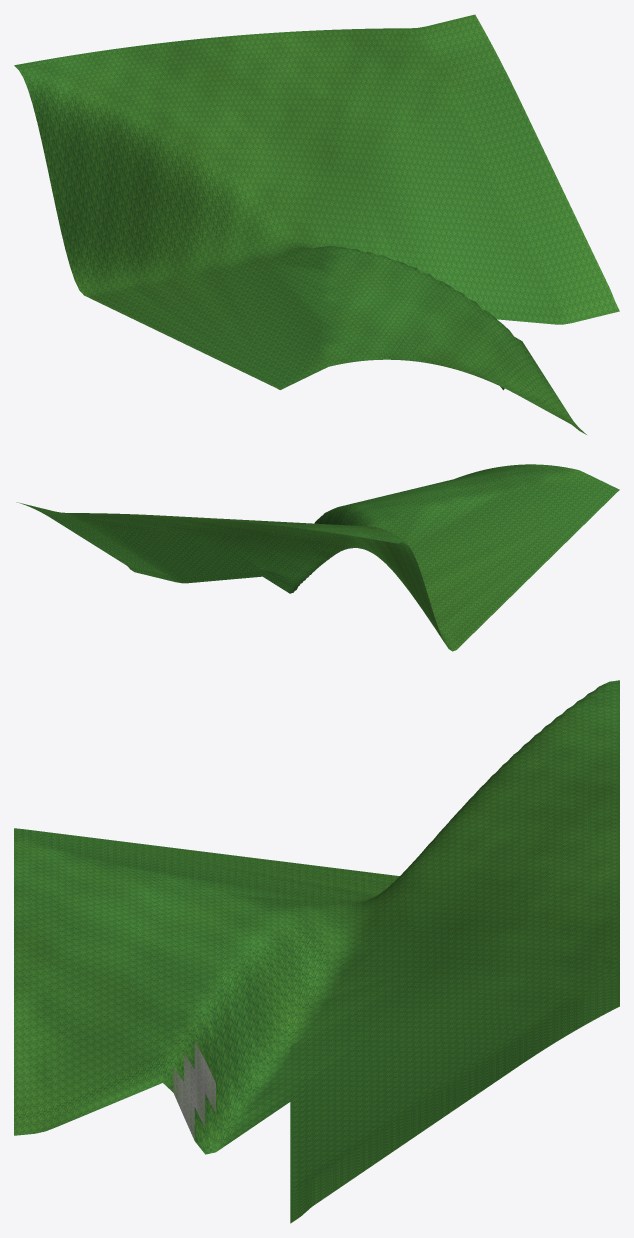
File: payo_land_far_se_lod1.glb
The picture shows the model from 3 angles, top to bottom: view 1: azimuth 30°, elevation 25°; view 2: azimuth 150°, elevation 25°; view 3: azimuth 270°, elevation 25°; orthographic projection. The views are drawn at different scales.
Parts seen in each view (by area): view 1: payo_land_far_se; view 2: payo_land_far_se; view 3: payo_land_far_se.
Part boxes in pixels (x1,y1,x2,y2): payo_land_far_se: (14,14,619,434); payo_land_far_se: (16,464,619,651); payo_land_far_se: (14,680,619,1223).
Bounding box in the file's own units: 342 × 189 × 342.
2 materials, 2 textured.
